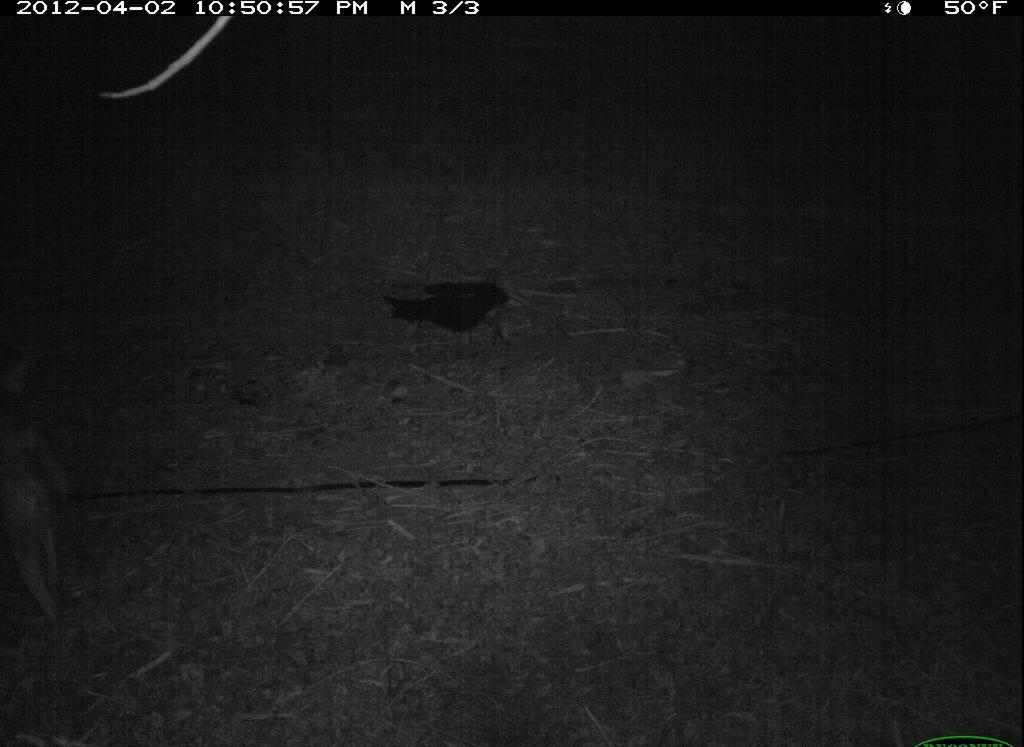coyote: (1, 413, 80, 638)
